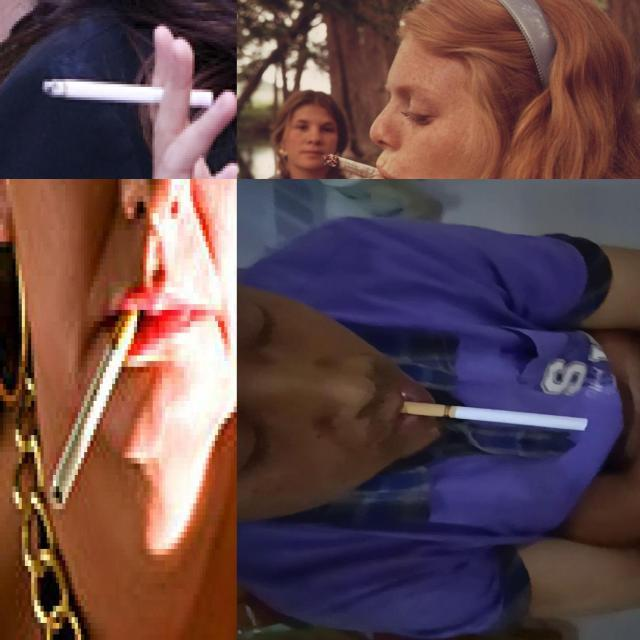smoking: (50, 303, 138, 511), (398, 398, 592, 432), (41, 78, 214, 108), (324, 154, 388, 178)
